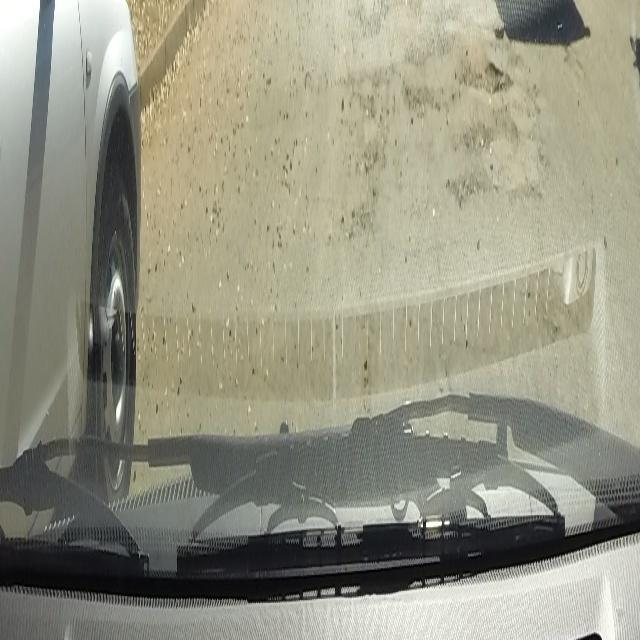pothole: (457, 52, 513, 94)
